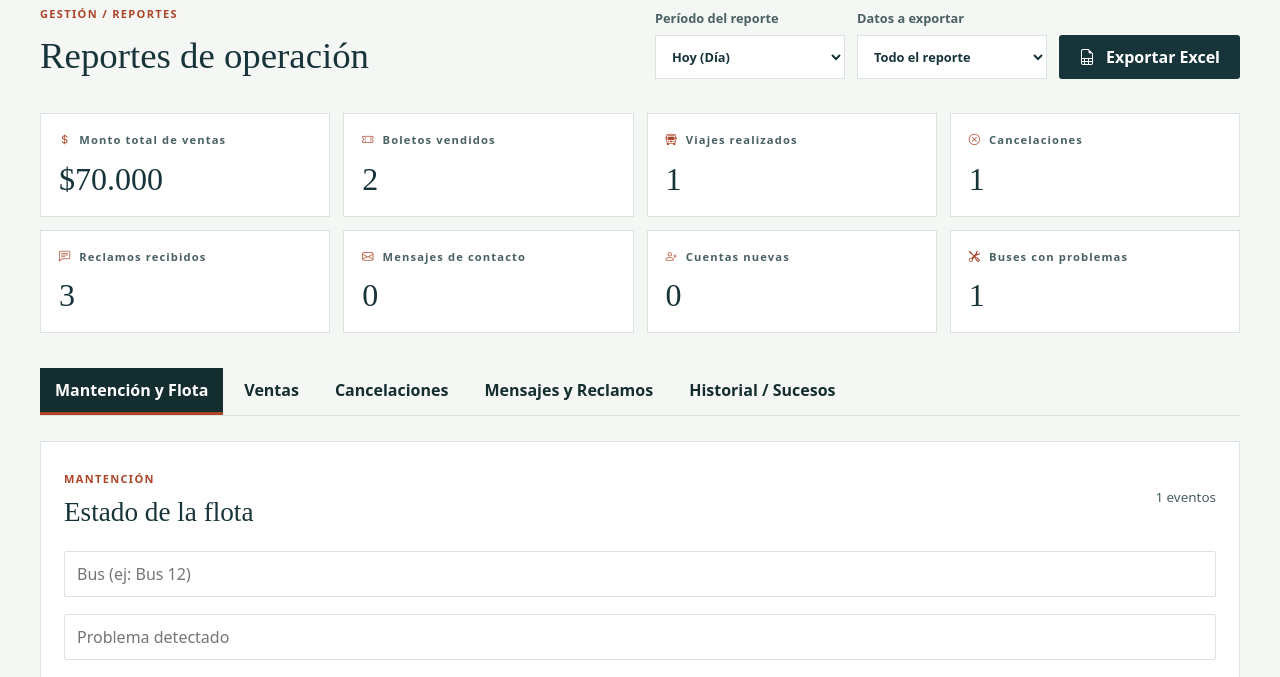
Test: ReportesPage › muestra métricas, compras, cancelaciones, flota y sucesos reales
Expected: the dropdown labelled "Período del reporte" shows "Hoy (Día)", x1=655 y1=35 x2=845 y2=79
Click the tab "Ventas" at (272, 392), box x1=229 y1=368 x2=314 y2=415
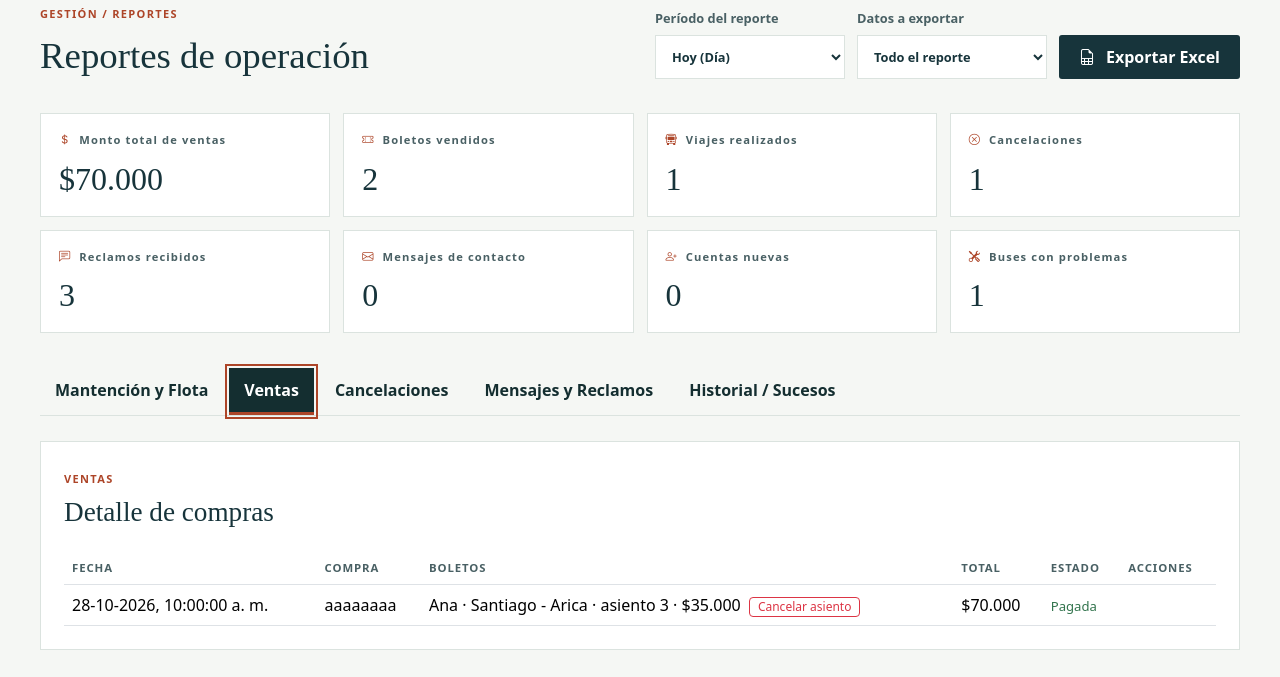
Result: the text "Ana · Santiago - Arica" is shown at x1=429 y1=594 x2=860 y2=617
Click the tab "Cancelaciones" at (392, 392), box x1=320 y1=368 x2=463 y2=415
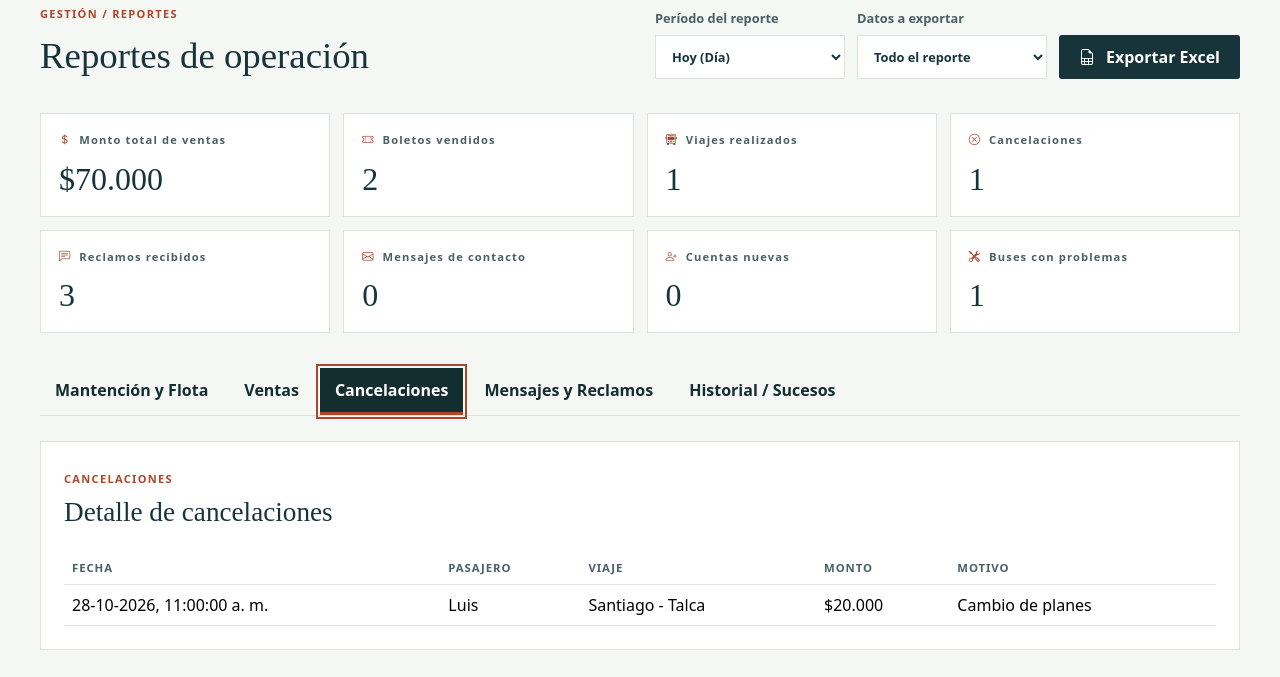
Result: the text "Cambio de planes" is shown at x1=949 y1=584 x2=1216 y2=626
Click the tab "Historial / Sucesos" at (762, 392), box x1=674 y1=368 x2=851 y2=415
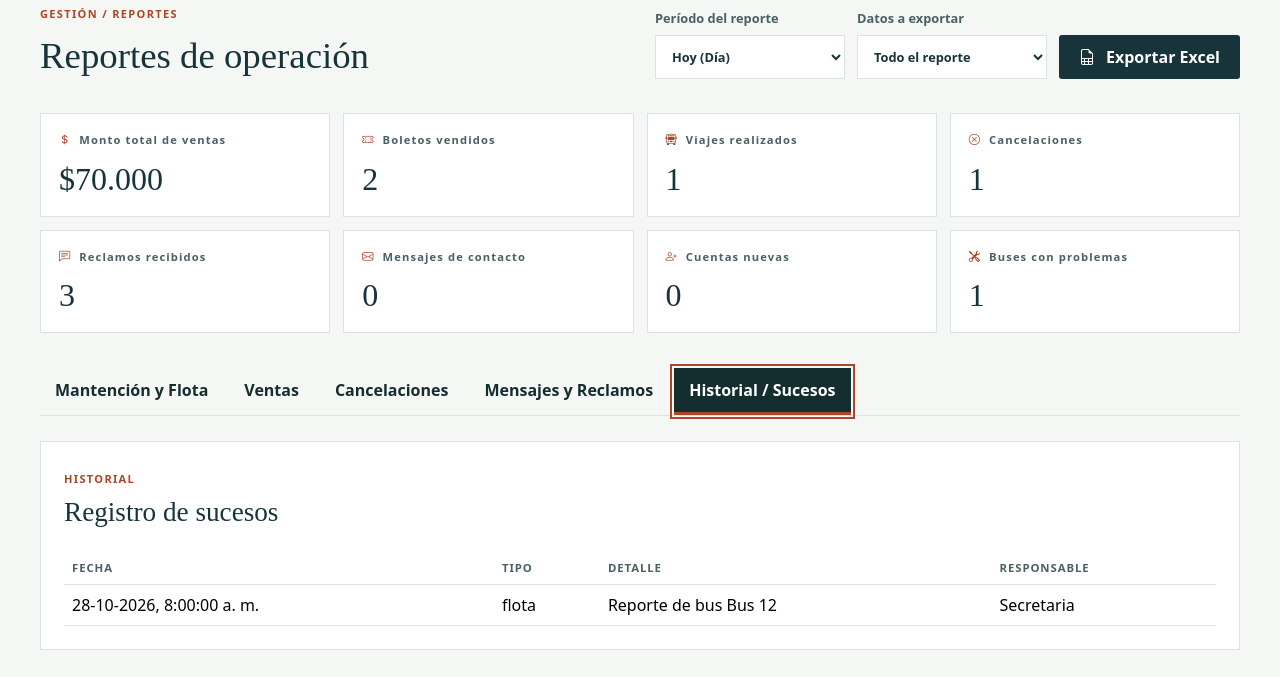
Result: the text "Reporte de bus Bus 12" is shown at x1=600 y1=584 x2=992 y2=626
